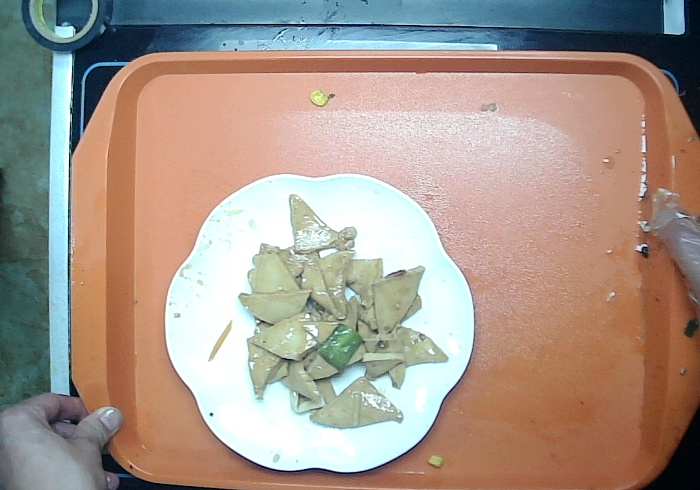HZYJPL-Bai_Se_Hua_Duo_Wan: (167, 162, 486, 474)
